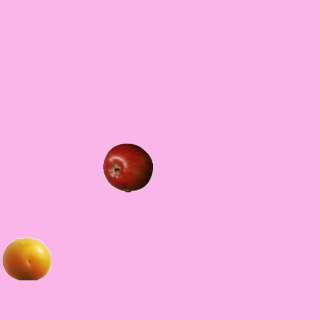Apple Braeburn: (102, 142, 152, 192)
Cherry Wax Yellow: (1, 233, 51, 283)
